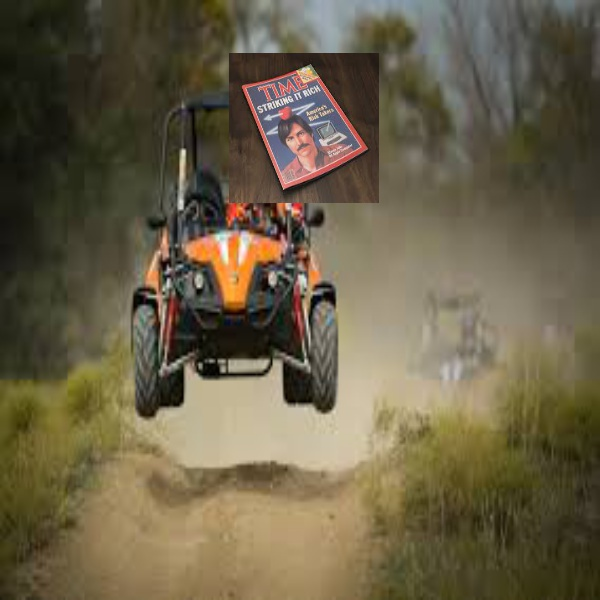time_cover: (226, 55, 367, 191)
